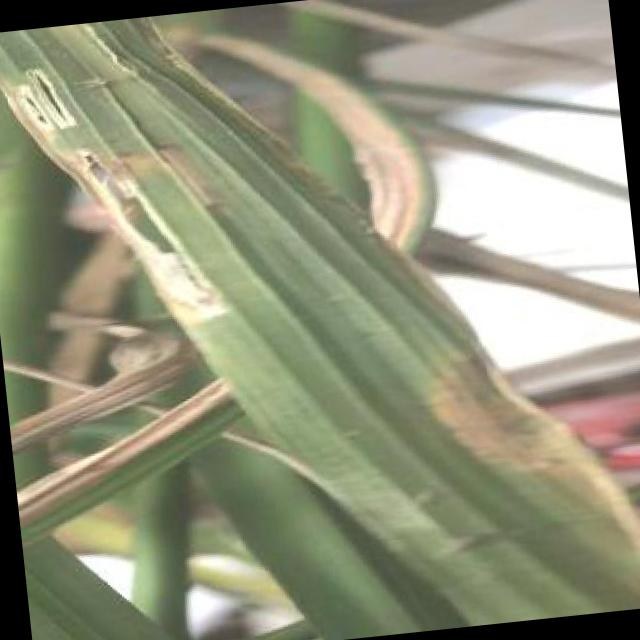Rice_Bacterial_Blight: (326, 263, 632, 635)
